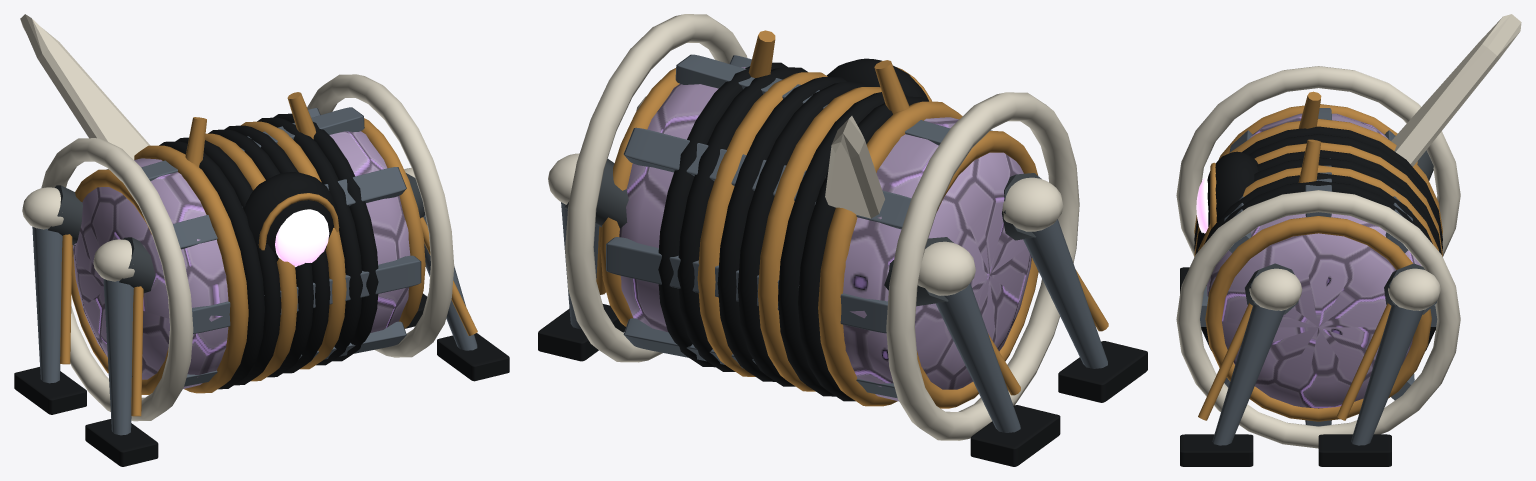
The model's file is warden-machine-rewinder-v1.glb.
3 renders of one model, left to right at view 1: azimuth 30°, elevation 25°; view 2: azimuth 150°, elevation 25°; view 3: azimuth 270°, elevation 25°, orthographic. The views are drawn at different scales.
Visible parts, largest first — view 1: Spool chassis, Winding barrel, Leg rocker (×3), Exposed instrument; view 2: Spool chassis, Winding barrel, Leg rocker (×3), Exposed instrument; view 3: Spool chassis, Winding barrel, Leg rocker (×2), Exposed instrument.
Boxes of the visible parts, box(x1,y1,x2,y2) form: Spool chassis: box(20, 14, 454, 421); Winding barrel: box(71, 107, 425, 394); Leg rocker (×3): box(14, 168, 509, 466); Exposed instrument: box(243, 172, 339, 267); Spool chassis: box(565, 14, 1079, 440); Winding barrel: box(600, 54, 1038, 408); Leg rocker (×3): box(538, 153, 1147, 466); Exposed instrument: box(826, 58, 931, 101); Spool chassis: box(1176, 14, 1521, 448); Winding barrel: box(1200, 104, 1437, 426); Leg rocker (×2): box(1180, 263, 1440, 466); Exposed instrument: box(1196, 151, 1258, 233).
Size of the model in its own units: 2.15 by 1.7 by 1.69.
7 materials, 1 textured.
